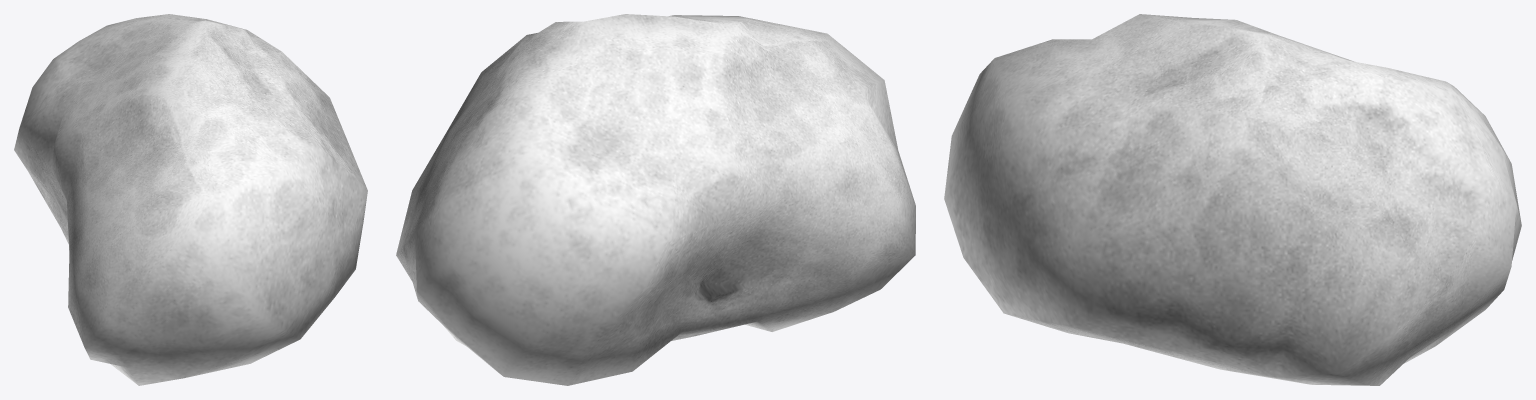
The model's file is Rock-1.fbx.
The picture shows the model from 3 angles, left to right: view 1: azimuth 30°, elevation 25°; view 2: azimuth 150°, elevation 25°; view 3: azimuth 270°, elevation 25°; orthographic projection. The views are drawn at different scales.
Parts seen in each view (by area): view 1: Cube.002; view 2: Cube.002; view 3: Cube.002.
Part boxes in pixels (x1=…): Cube.002: x1=14, y1=14, x2=367, y2=385; Cube.002: x1=396, y1=14, x2=915, y2=385; Cube.002: x1=944, y1=14, x2=1521, y2=385.
Bounding box in the file's own units: 136 × 108 × 171.
